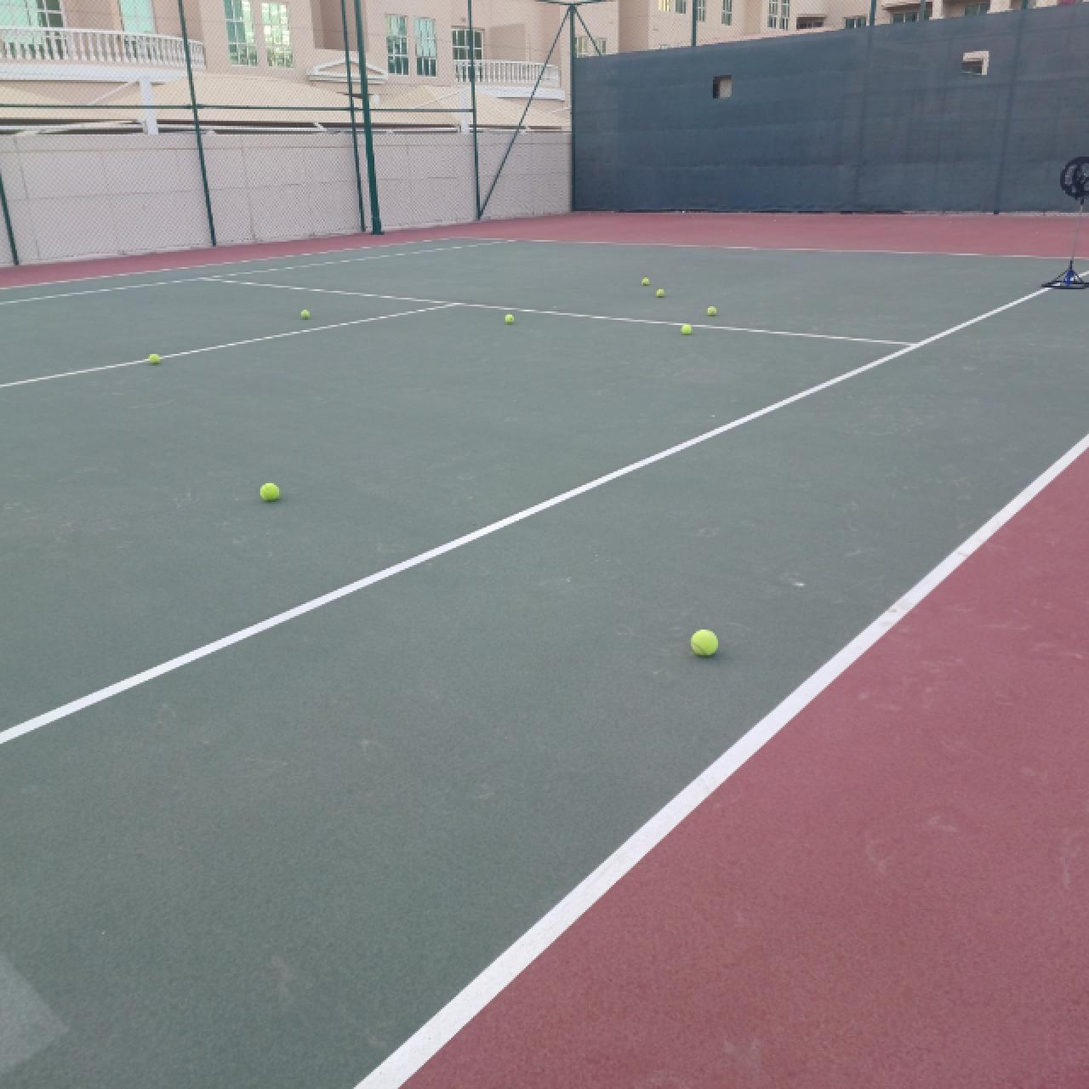tennis-ball: (690, 627, 719, 657), (259, 481, 280, 501), (148, 353, 162, 367), (680, 323, 693, 336), (503, 313, 515, 326), (300, 309, 311, 320), (654, 288, 666, 298), (707, 306, 718, 316), (641, 277, 650, 287)
